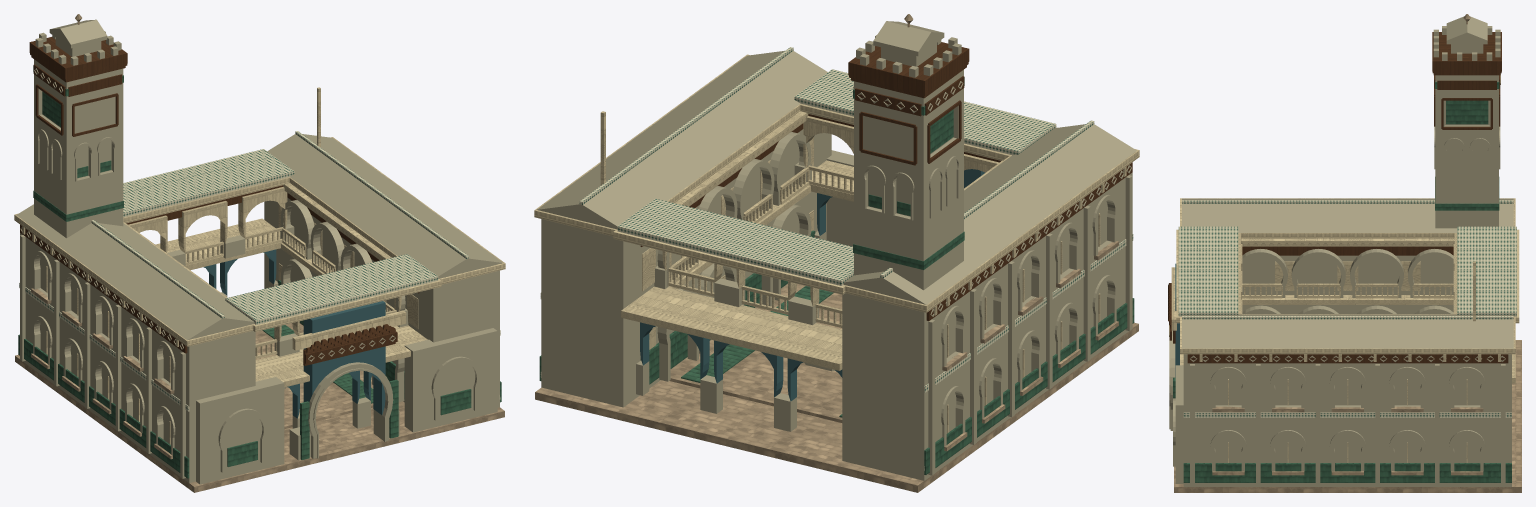
3 views of the same model, side by side, from view 1: azimuth 30°, elevation 25°; view 2: azimuth 150°, elevation 25°; view 3: azimuth 270°, elevation 25° (orthographic). The views are drawn at different scales.
Visible parts, largest first — view 1: garrison_part_0002, garrison_part_0004, garrison_part_0003, garrison_part_0000, garrison_part_0001, garrison_part_0005; view 2: garrison_part_0002, garrison_part_0004, garrison_part_0003, garrison_part_0000, garrison_part_0001, garrison_part_0005; view 3: garrison_part_0004, garrison_part_0002, garrison_part_0003, garrison_part_0000, garrison_part_0005.
Part boxes in pixels (left/top/right/bottom): garrison_part_0002: left=20, top=59, right=499, bottom=484; garrison_part_0004: left=14, top=19, right=505, bottom=459; garrison_part_0003: left=18, top=64, right=501, bottom=478; garrison_part_0000: left=15, top=354, right=504, bottom=492; garrison_part_0001: left=255, top=323, right=373, bottom=429; garrison_part_0005: left=35, top=14, right=121, bottom=65; garrison_part_0002: left=541, top=69, right=1132, bottom=480; garrison_part_0004: left=534, top=21, right=1139, bottom=470; garrison_part_0003: left=539, top=76, right=1134, bottom=474; garrison_part_0000: left=535, top=322, right=1138, bottom=492; garrison_part_0001: left=669, top=283, right=842, bottom=422; garrison_part_0005: left=856, top=14, right=961, bottom=77; garrison_part_0004: left=1171, top=16, right=1519, bottom=417; garrison_part_0002: left=1168, top=75, right=1511, bottom=487; garrison_part_0003: left=1169, top=73, right=1515, bottom=482; garrison_part_0000: left=1174, top=340, right=1521, bottom=492; garrison_part_0005: left=1433, top=14, right=1500, bottom=60.
Bounding box in the file's own units: 1435 × 1546 × 1423.
